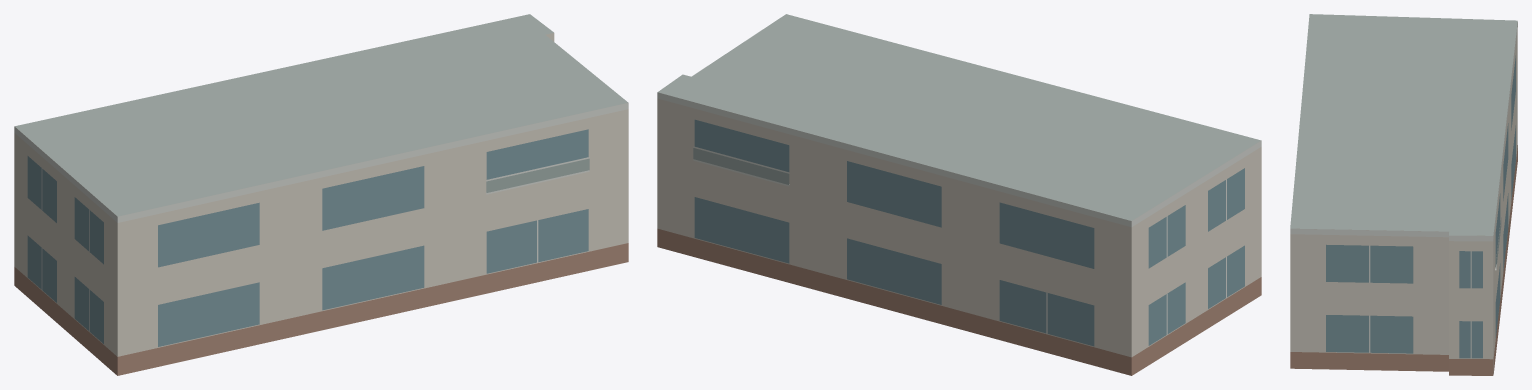
Rendered from survey-upis-32563113.glb.
3 views of the same model, side by side, from view 1: azimuth 30°, elevation 25°; view 2: azimuth 150°, elevation 25°; view 3: azimuth 270°, elevation 25° (orthographic). The views are drawn at different scales.
Parts seen in each view (by area): view 1: survey-upis-32563113.tmp; view 2: survey-upis-32563113.tmp; view 3: survey-upis-32563113.tmp.
Part boxes in pixels (<box>): survey-upis-32563113.tmp: <box>14,14,628,375</box>; survey-upis-32563113.tmp: <box>657,14,1261,375</box>; survey-upis-32563113.tmp: <box>1290,14,1517,375</box>.
Size of the model in its own units: 20.73 by 6.1 by 9.
